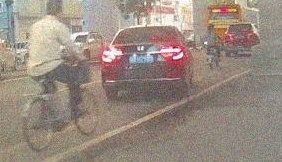L_light: (102, 50, 123, 63)
R_light: (160, 48, 184, 61)
T_light: (141, 28, 154, 29)
day-left: (102, 26, 185, 98)
